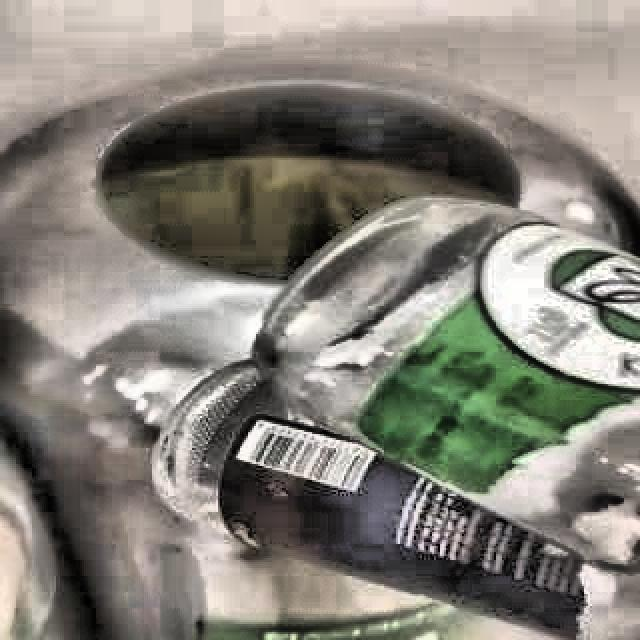glass: (155, 197, 640, 640)
